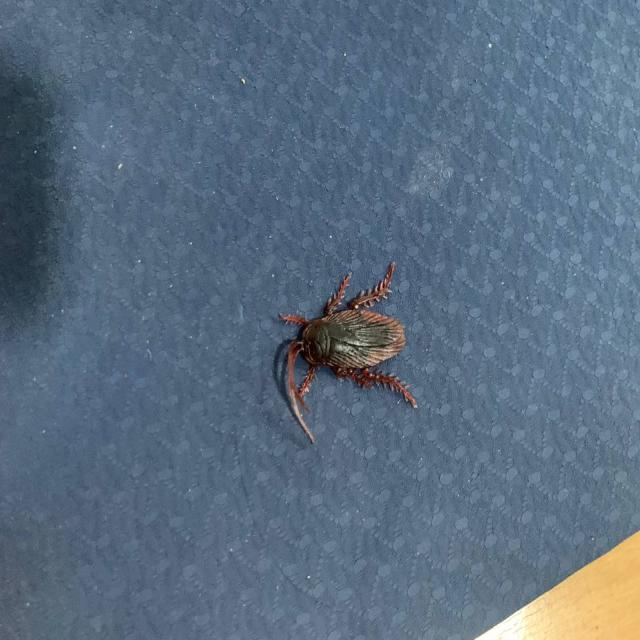Cockroach: (266, 265, 418, 436)
